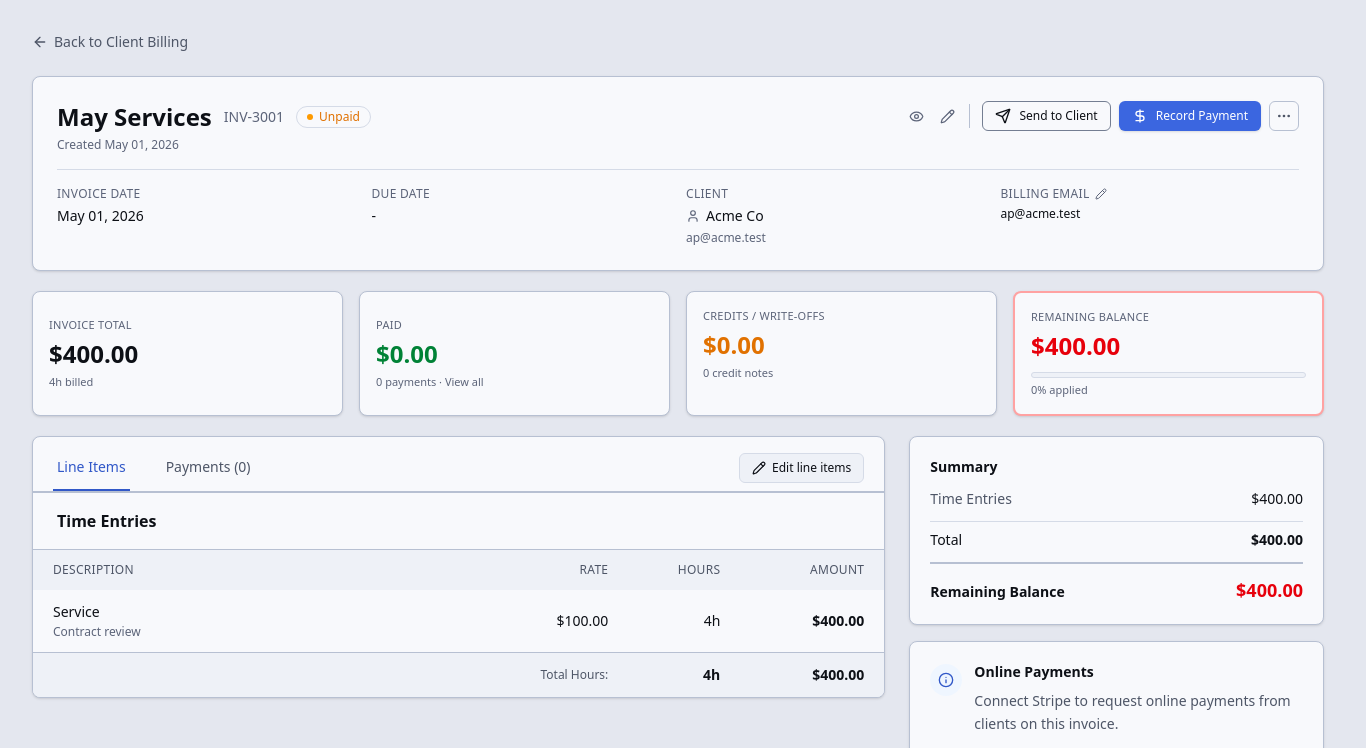
adding a credit note › keeps the invoice on screen with the refusal as a banner when the credit is rejected
Click the button named "More actions": (1284, 116) [1269,101,1299,131]
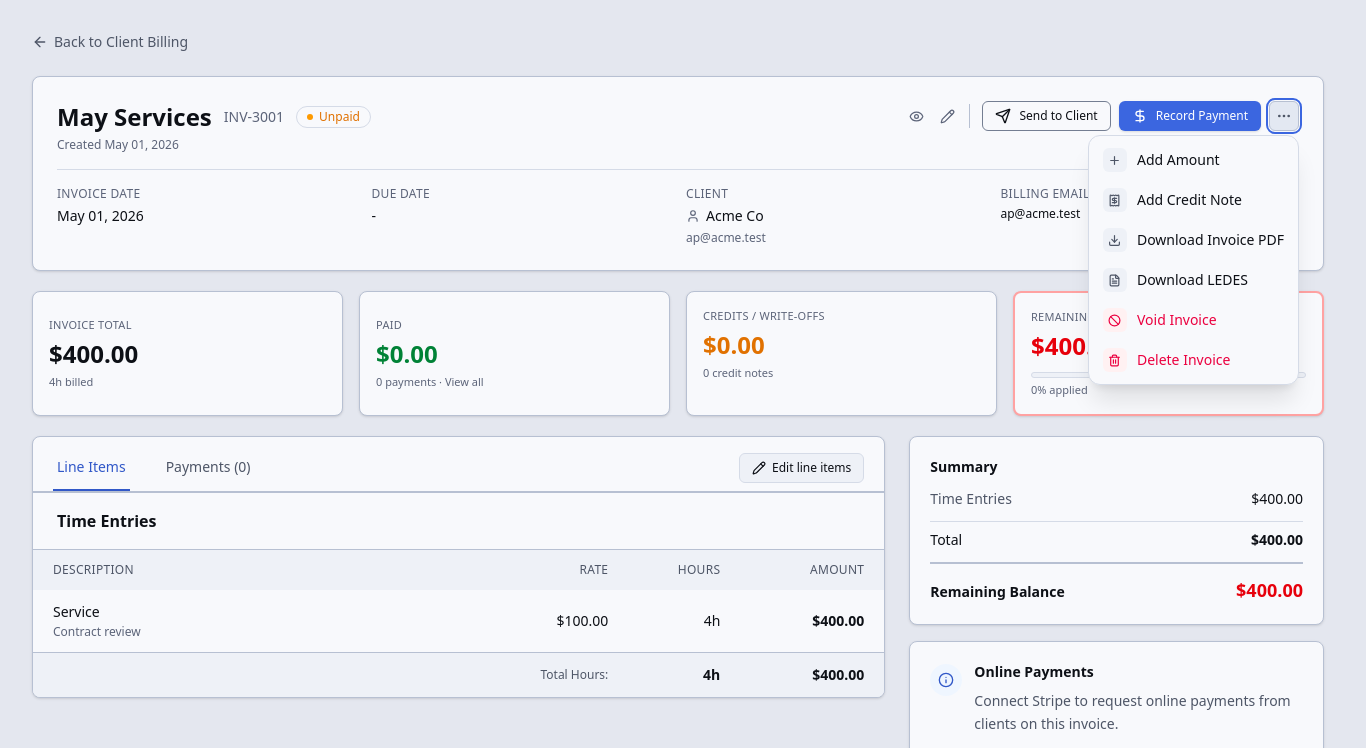
Click the button "Add Credit Note": (1193, 200) [1093,180,1294,220]
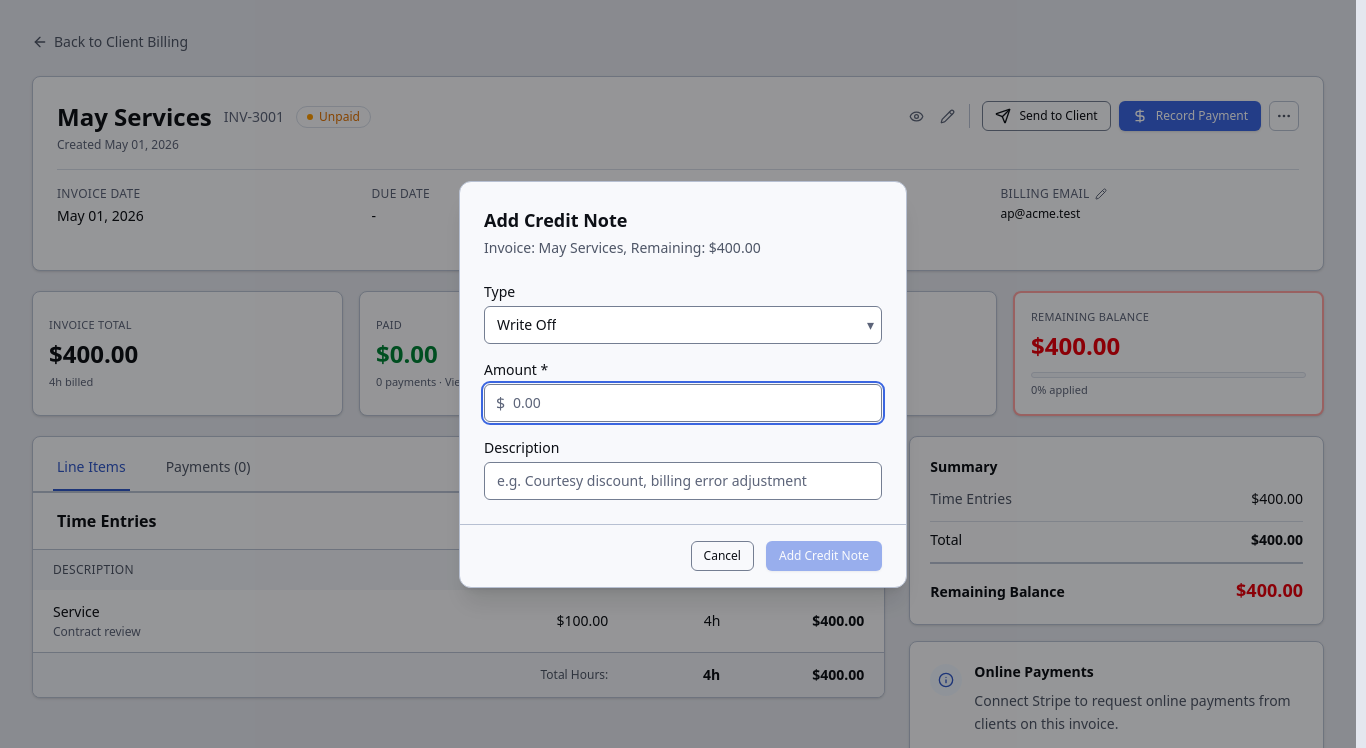
In the number field with placeholder "0.00": (683, 402) [484,384,882,422], type "999"
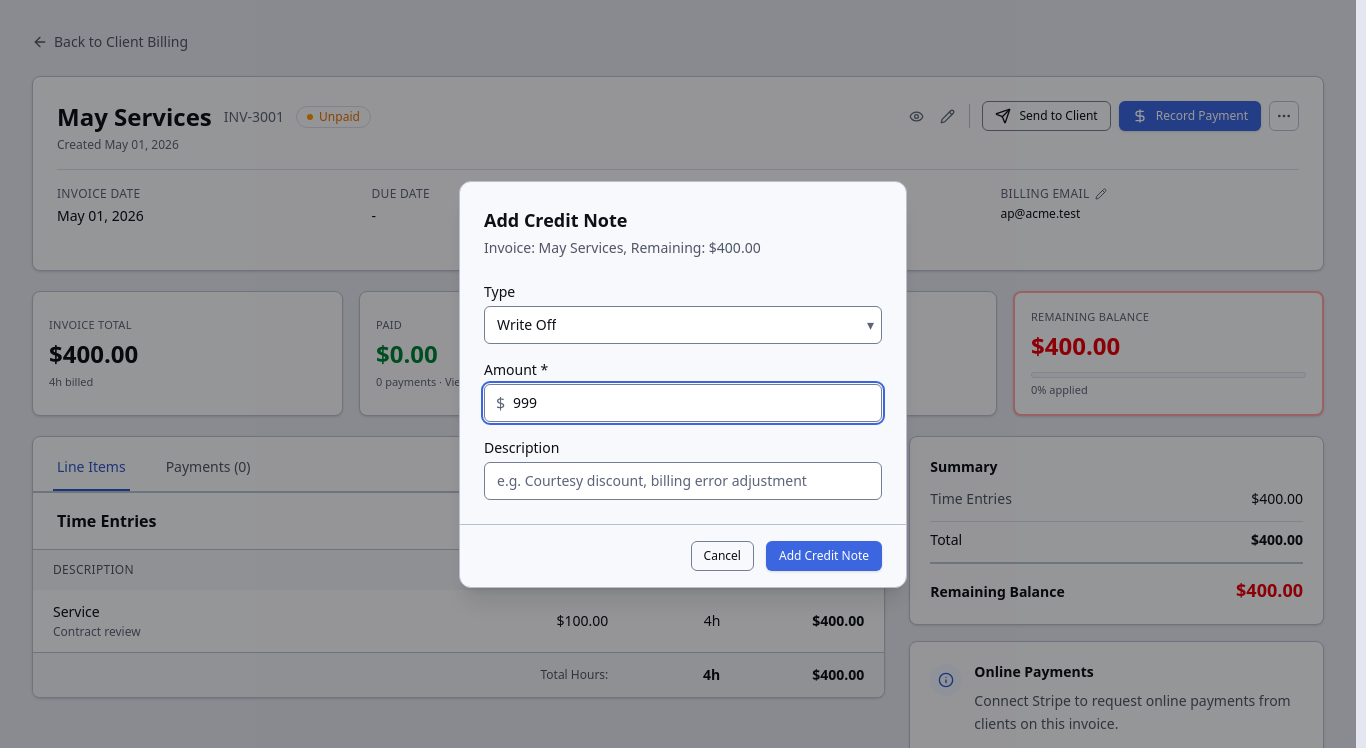
Click the button "Add Credit Note": (824, 556) [766,540,882,570]
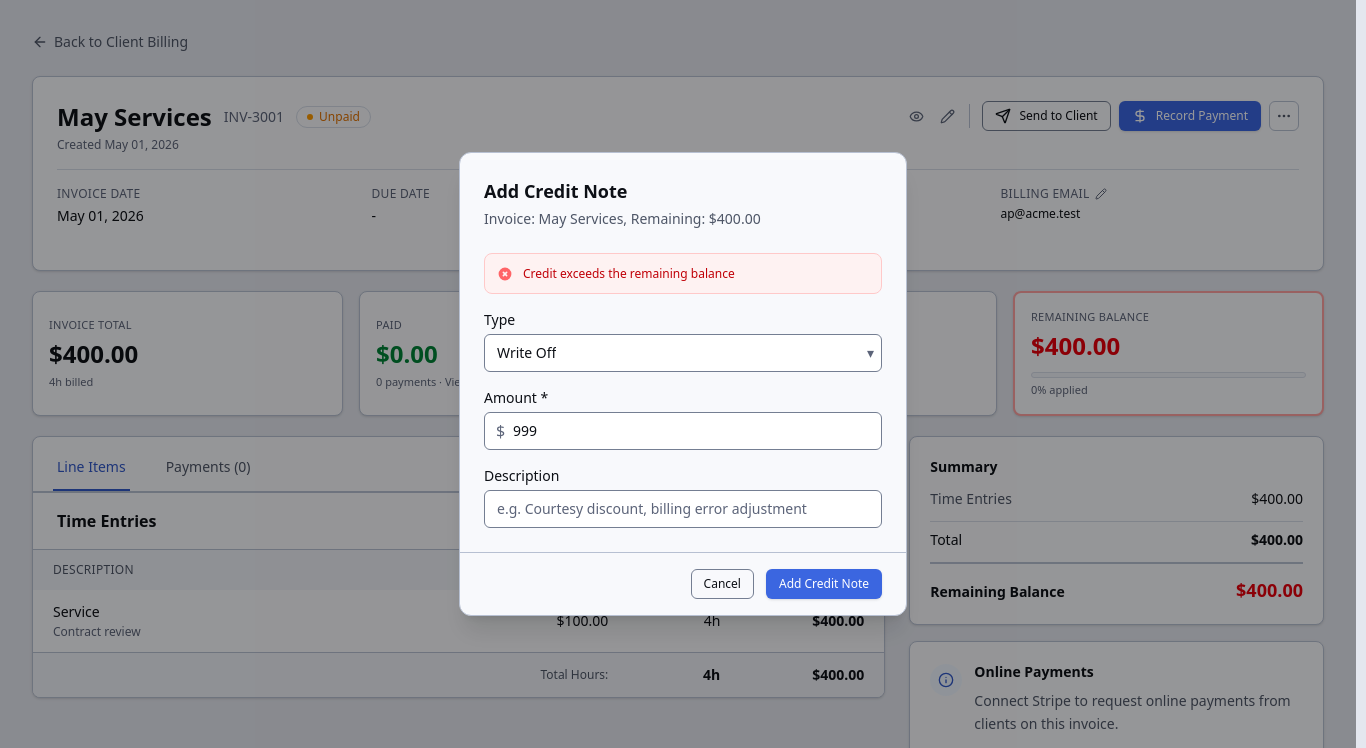
Check: the heading "May Services" is shown, box [57,101,212,133]
Check: the text "Credit exceeds the remaining balance" is shown, box [523,265,735,282]
